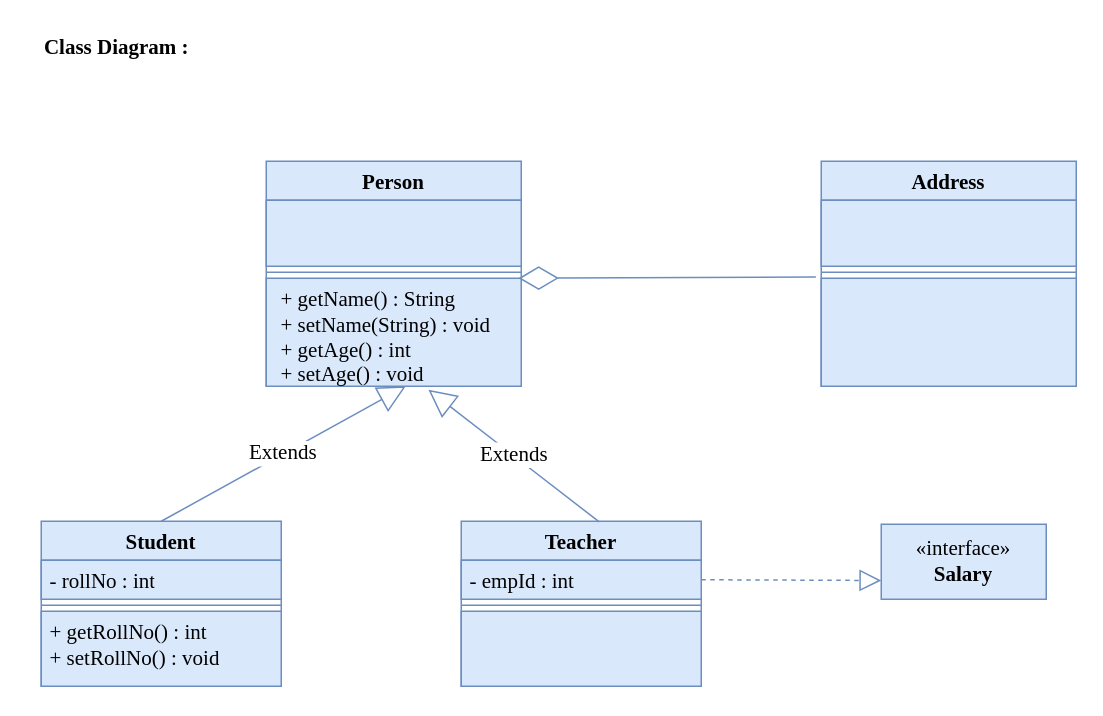
This 1103x716 diagram has some shape labels left out. The centre of each missing label's shape, as x and y in pixels:
"+ getCity() : String + setCity() : void + getState() : + setState() : void" belongs at point (948, 331).
"+ getEmpId() : int + setEmpId() : void" belongs at point (580, 648).
"- city : String - state : String" belongs at point (948, 232).
"- name : String - age : int" belongs at point (393, 232).
